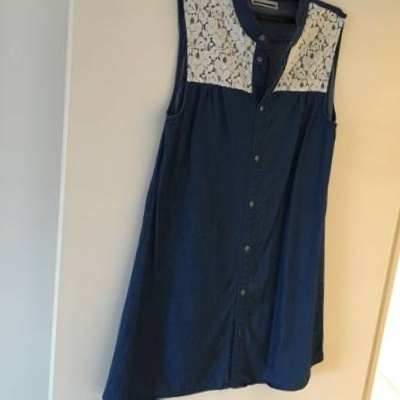Dress: (90, 0, 378, 400)
